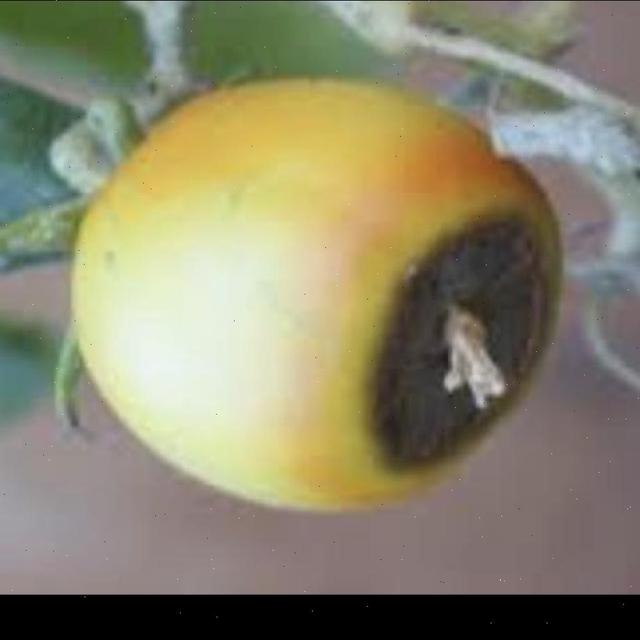Blossom End Rot Fruit: (236, 137, 367, 318)
